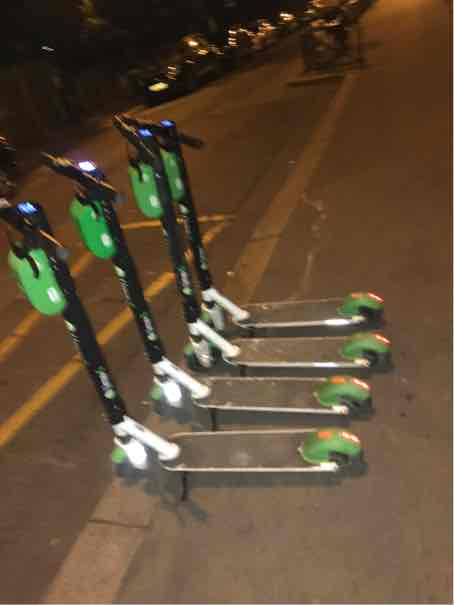too close: (92, 419, 173, 500), (127, 368, 202, 428)
